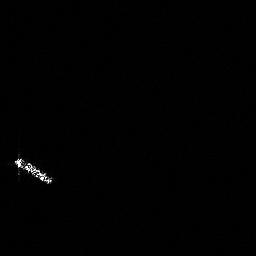ship: (11, 153, 57, 187)
